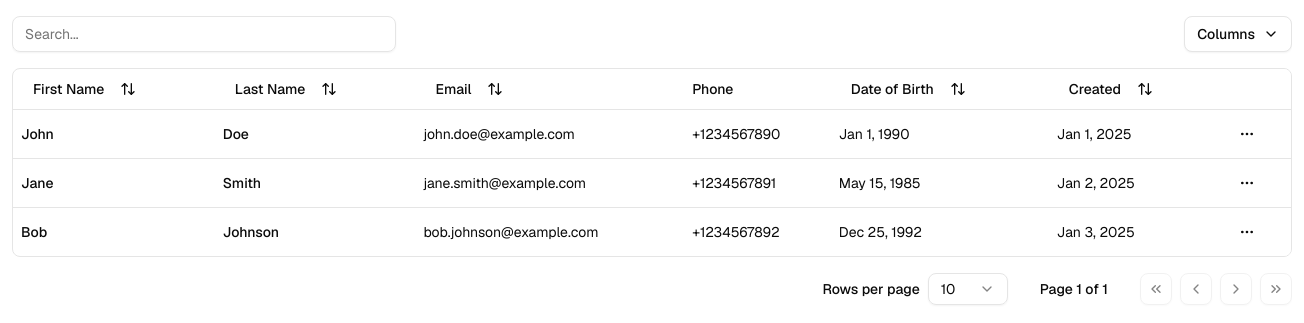
Scenario: PatientTable › Role-based Rendering › shows all actions for admin users
Click on first action button to see dropdown
Click the button named "open menu" in the row of "john.doe@example.com" at (1247, 134), box [1231,118,1263,150]
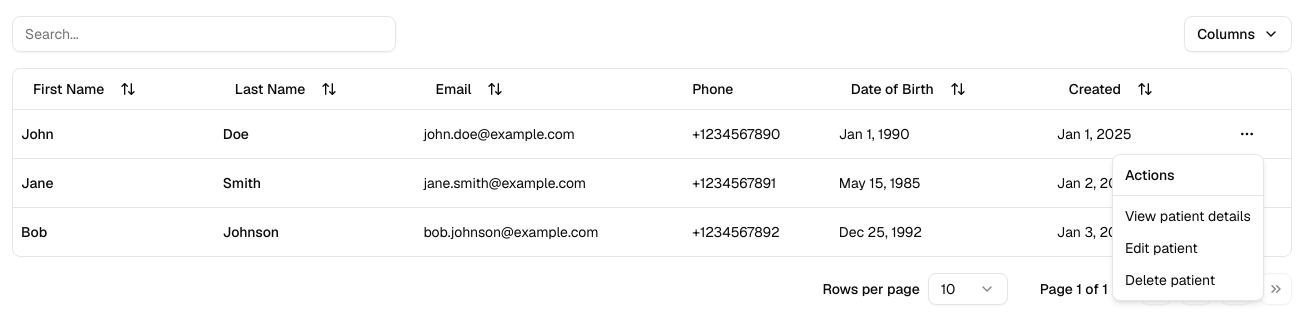
Expected: the menu item "View patient details" is shown, [1125,207,1251,225]
Expected: the menu item "Edit patient" is shown, [1125,239,1198,257]
Expected: the menu item "Delete patient" is shown, [1125,271,1215,289]
